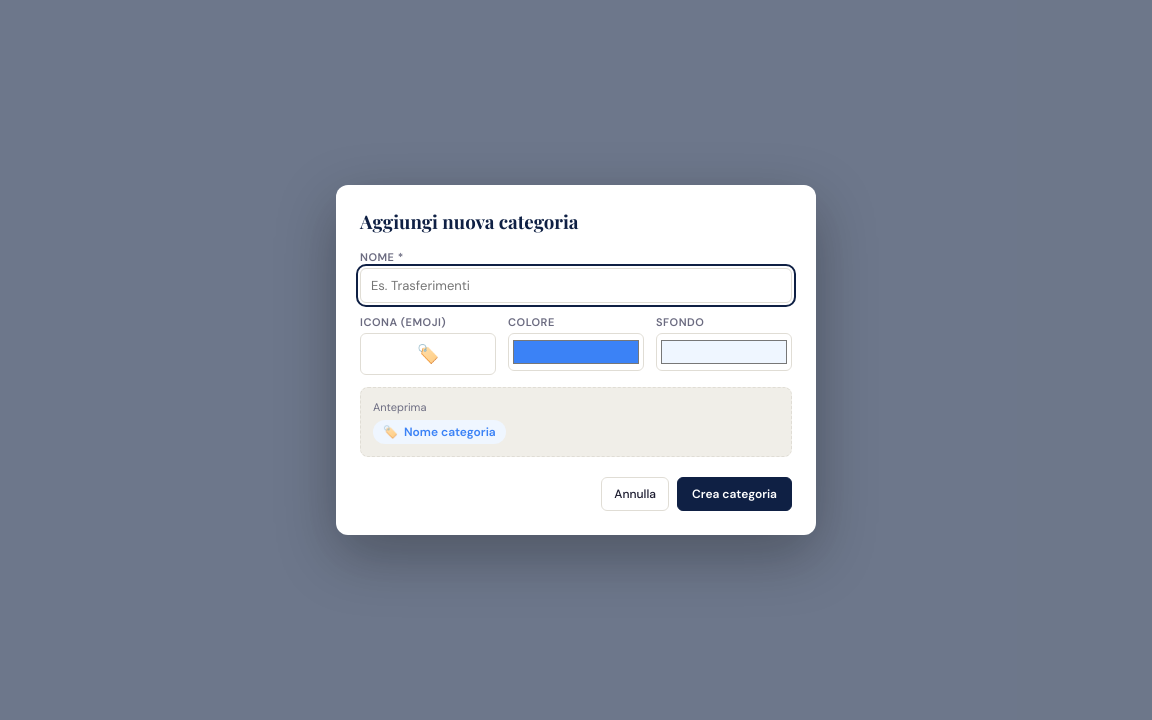
Test: A-4 · AddCategoryModal — la categoria digitata sopravvive al rifiuto › scrittura rifiutata: resta aperta e il nome è ancora nel campo
In the field with placeholder "Es. Trasferimenti": (576, 286) [360, 268, 792, 303], type "Assicurazioni"
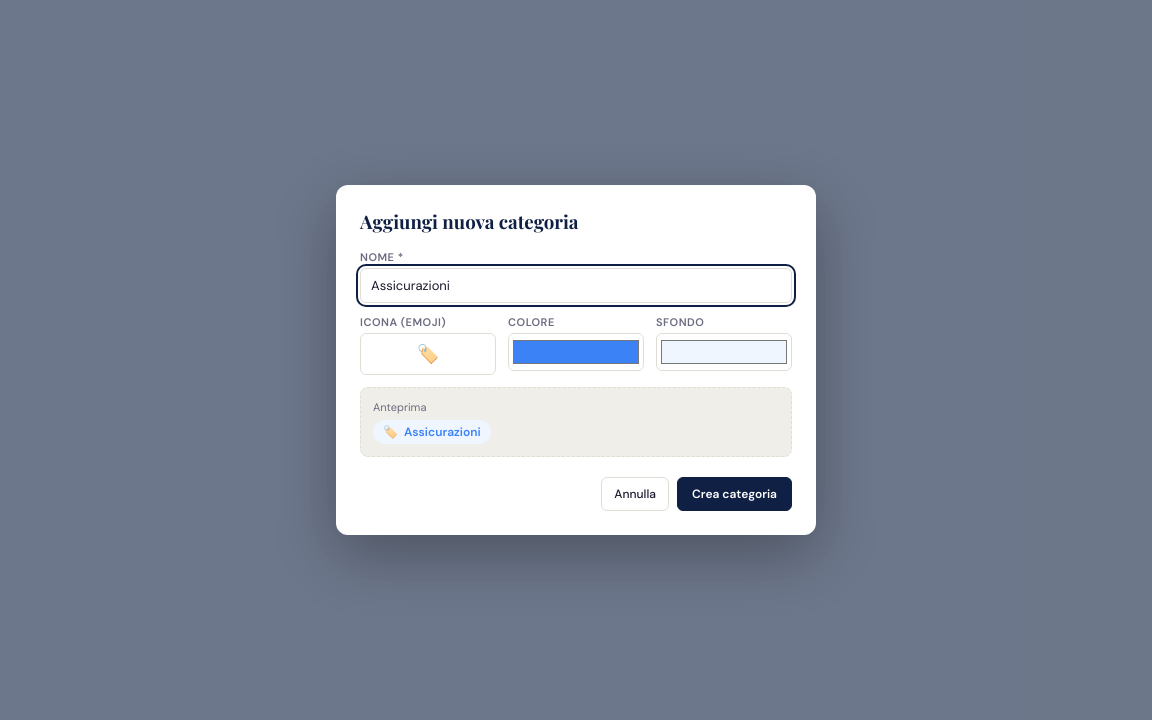
Click the button "Crea categoria": (734, 494) [677, 477, 792, 511]
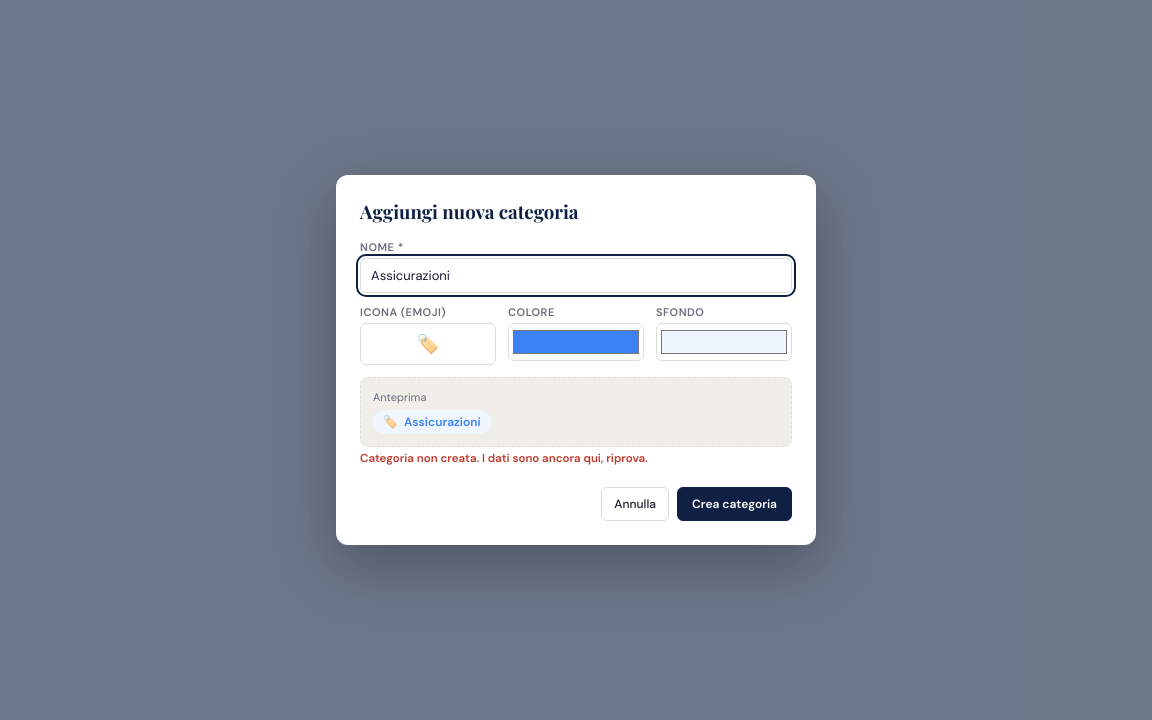
Now the text "Categoria non creata. I dati sono ancora qui, riprova." is shown, box [360, 451, 648, 466]
